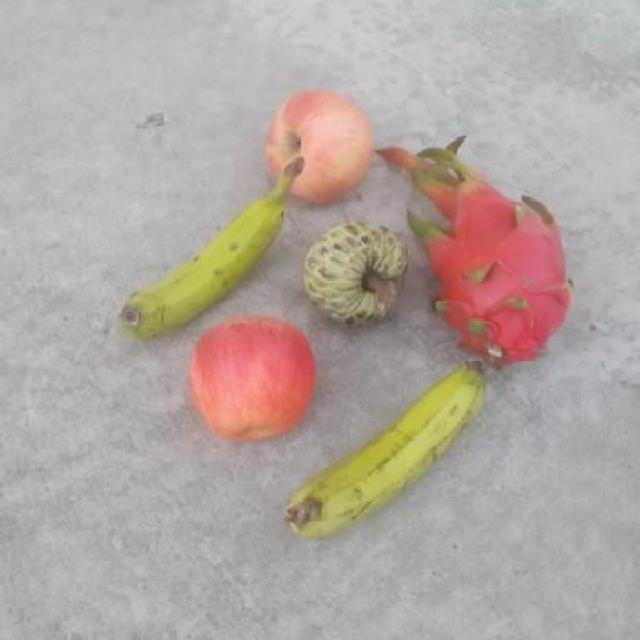apple: (186, 316, 323, 445), (263, 86, 375, 206)
banana: (282, 357, 490, 538), (114, 157, 308, 340)
dragon fruit: (423, 169, 580, 372)
sugar apple: (301, 216, 412, 330)
